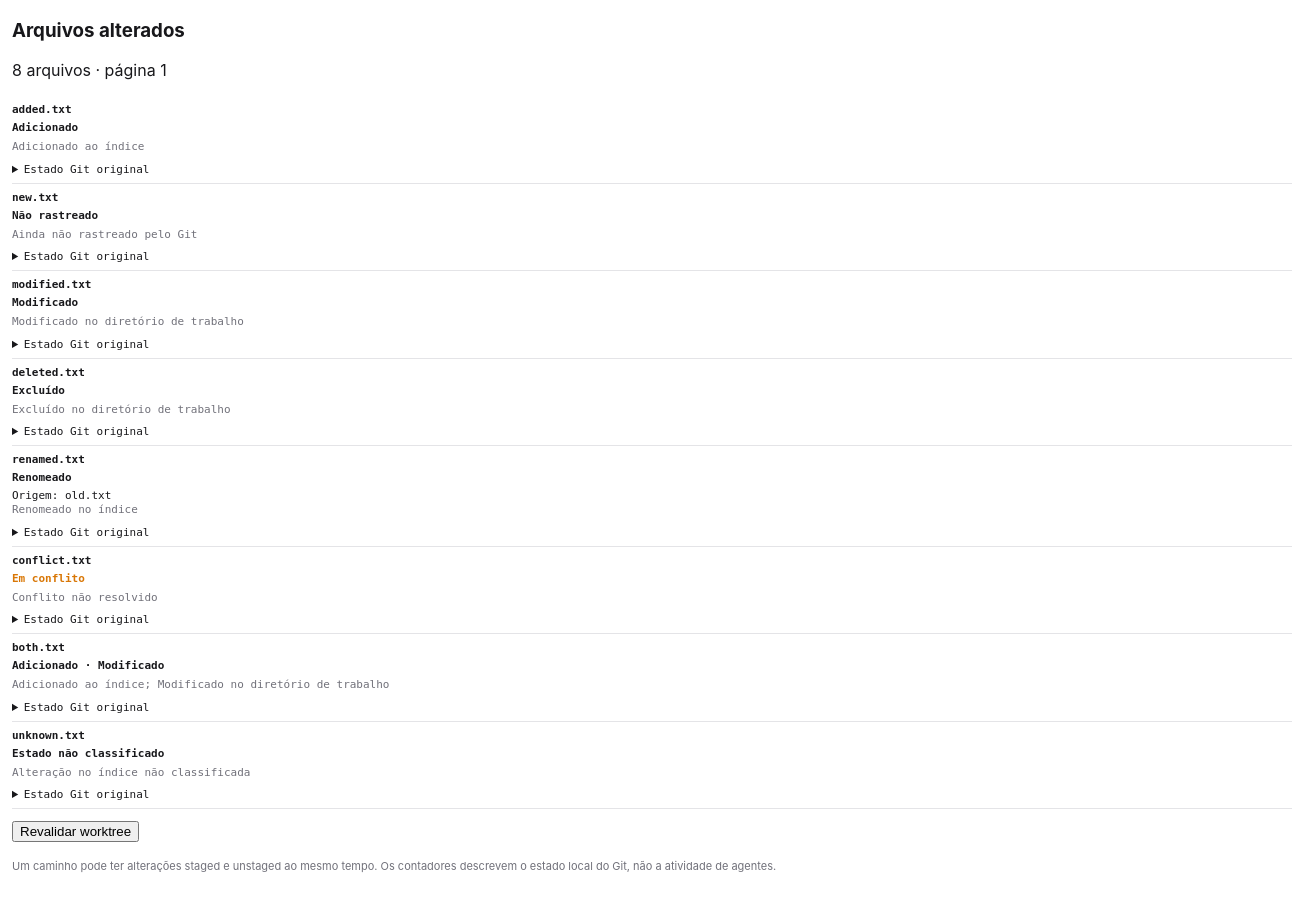
Test: lists human classifications without a filter or prefix request and preserves multistate evidence
Expected: the text "8 arquivos · página 1" is shown, x1=12 y1=60 x2=167 y2=80
Expected: the text "Adicionado" is shown, x1=12 y1=121 x2=78 y2=134
Click the heading "Estado Git original" below "both.txt" at {"x": 86, "y": 707}, box x1=24 y1=701 x2=149 y2=714
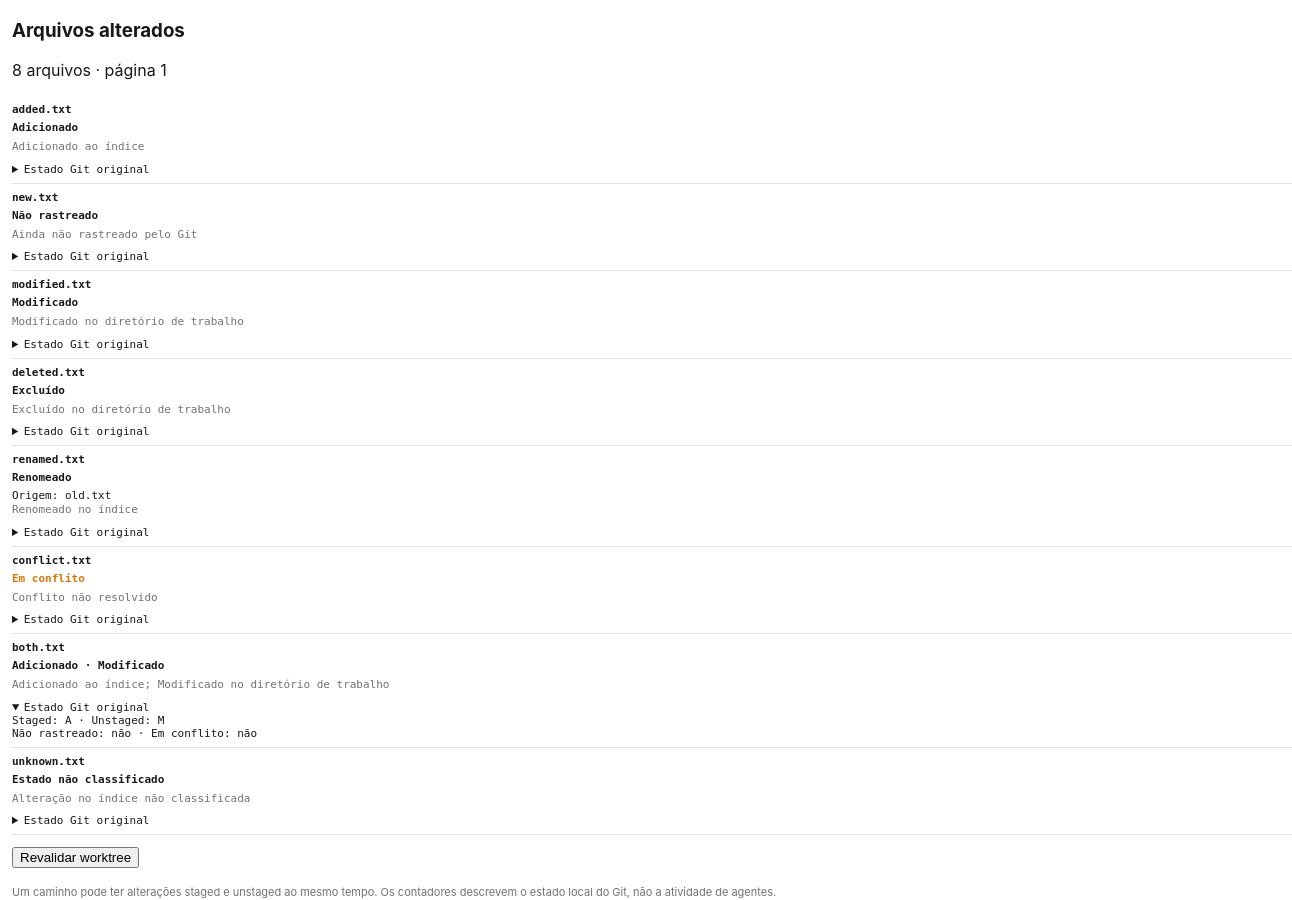
Now the text "Staged: A · Unstaged: M" is shown, box x1=12 y1=714 x2=164 y2=727
